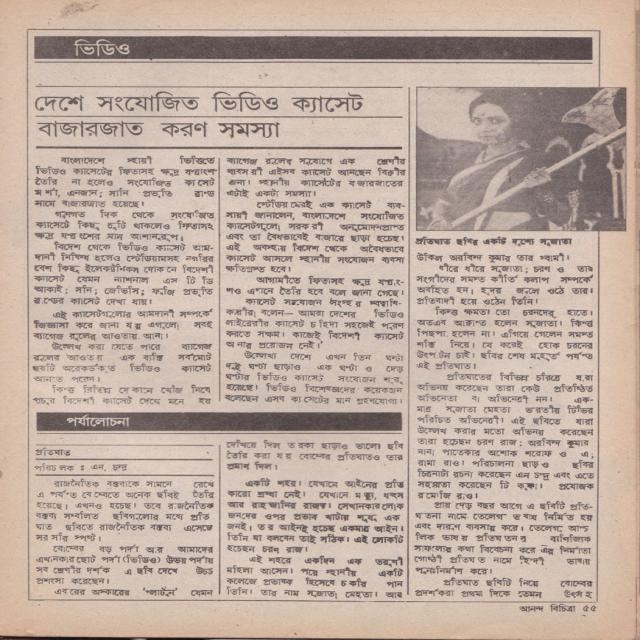caption: (414, 234, 574, 247)
image: (416, 86, 627, 231)
page number: (583, 604, 597, 612)
paragraph: (415, 371, 596, 500), (414, 499, 595, 576), (226, 477, 405, 554), (223, 200, 408, 273), (30, 241, 214, 307), (34, 478, 216, 543), (415, 307, 595, 370), (32, 155, 217, 209), (223, 350, 406, 404), (223, 297, 407, 349), (224, 555, 405, 599), (224, 155, 409, 198), (33, 543, 217, 585), (33, 341, 215, 383), (416, 263, 596, 305), (31, 306, 218, 340), (33, 209, 217, 243), (225, 439, 406, 472), (412, 577, 596, 601), (31, 384, 214, 406), (224, 275, 407, 296), (416, 251, 572, 263), (51, 587, 215, 597)
text: (33, 463, 129, 473), (517, 603, 576, 614)
title: (32, 91, 368, 140), (74, 38, 131, 59), (64, 413, 132, 428), (35, 447, 71, 458)
